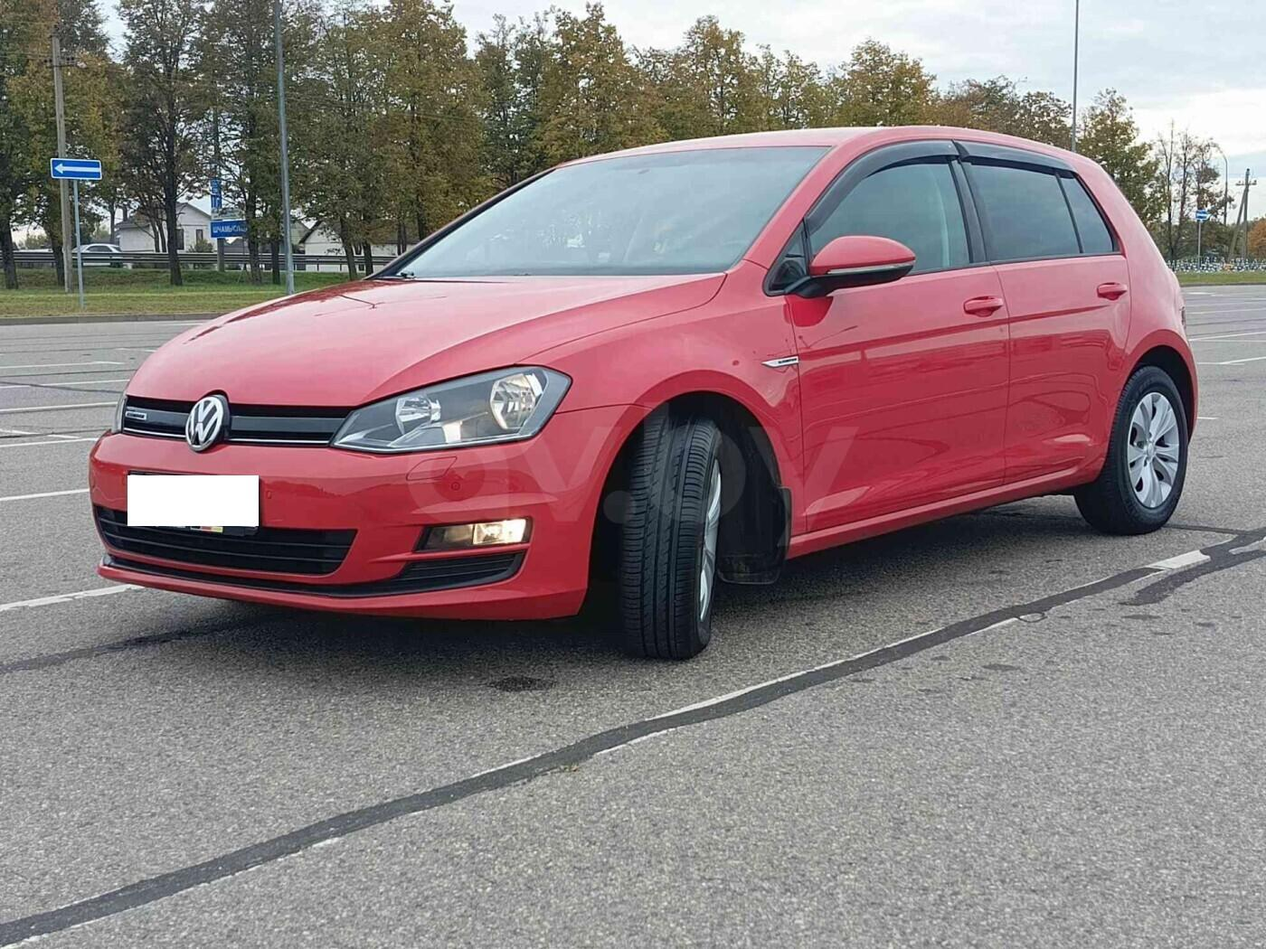Golf_2012-2017: (94, 103, 1209, 665)
